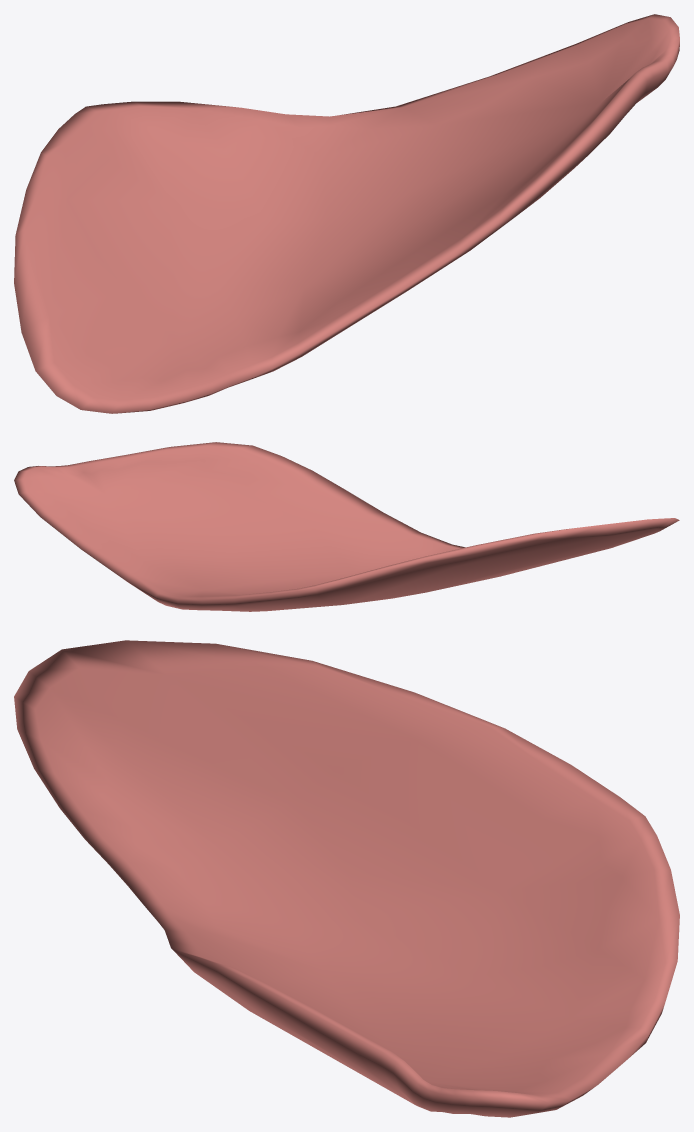
3 renders of one model, top to bottom at view 1: azimuth 30°, elevation 25°; view 2: azimuth 150°, elevation 25°; view 3: azimuth 270°, elevation 25°, orthographic. The views are drawn at different scales.
Visible parts, largest first — view 1: ZA_c00a0661eb45694b; view 2: ZA_c00a0661eb45694b; view 3: ZA_c00a0661eb45694b.
Part boxes in pixels (<box>): ZA_c00a0661eb45694b: <box>14,14,679,413</box>; ZA_c00a0661eb45694b: <box>14,442,679,611</box>; ZA_c00a0661eb45694b: <box>14,640,679,1117</box>.
Bounding box in the file's own units: 0.0207 × 0.00354 × 0.0126.
